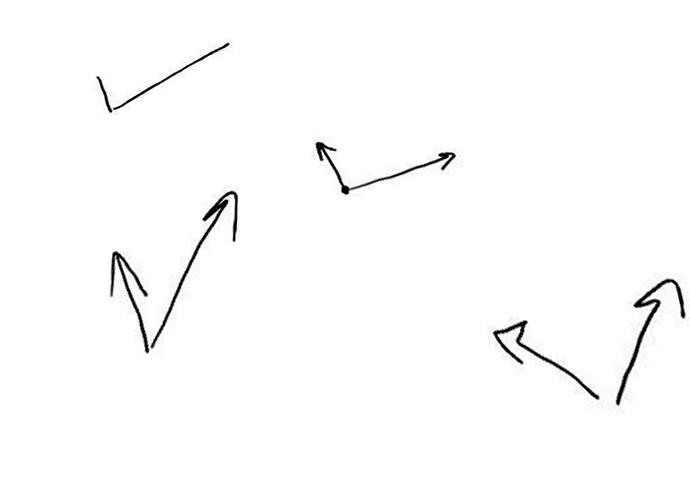arrow: (151, 189, 240, 344), (491, 317, 598, 399), (615, 278, 686, 401), (110, 249, 150, 350), (351, 151, 455, 188), (315, 141, 345, 186)
arrownohead: (114, 43, 229, 108), (93, 75, 113, 114)
